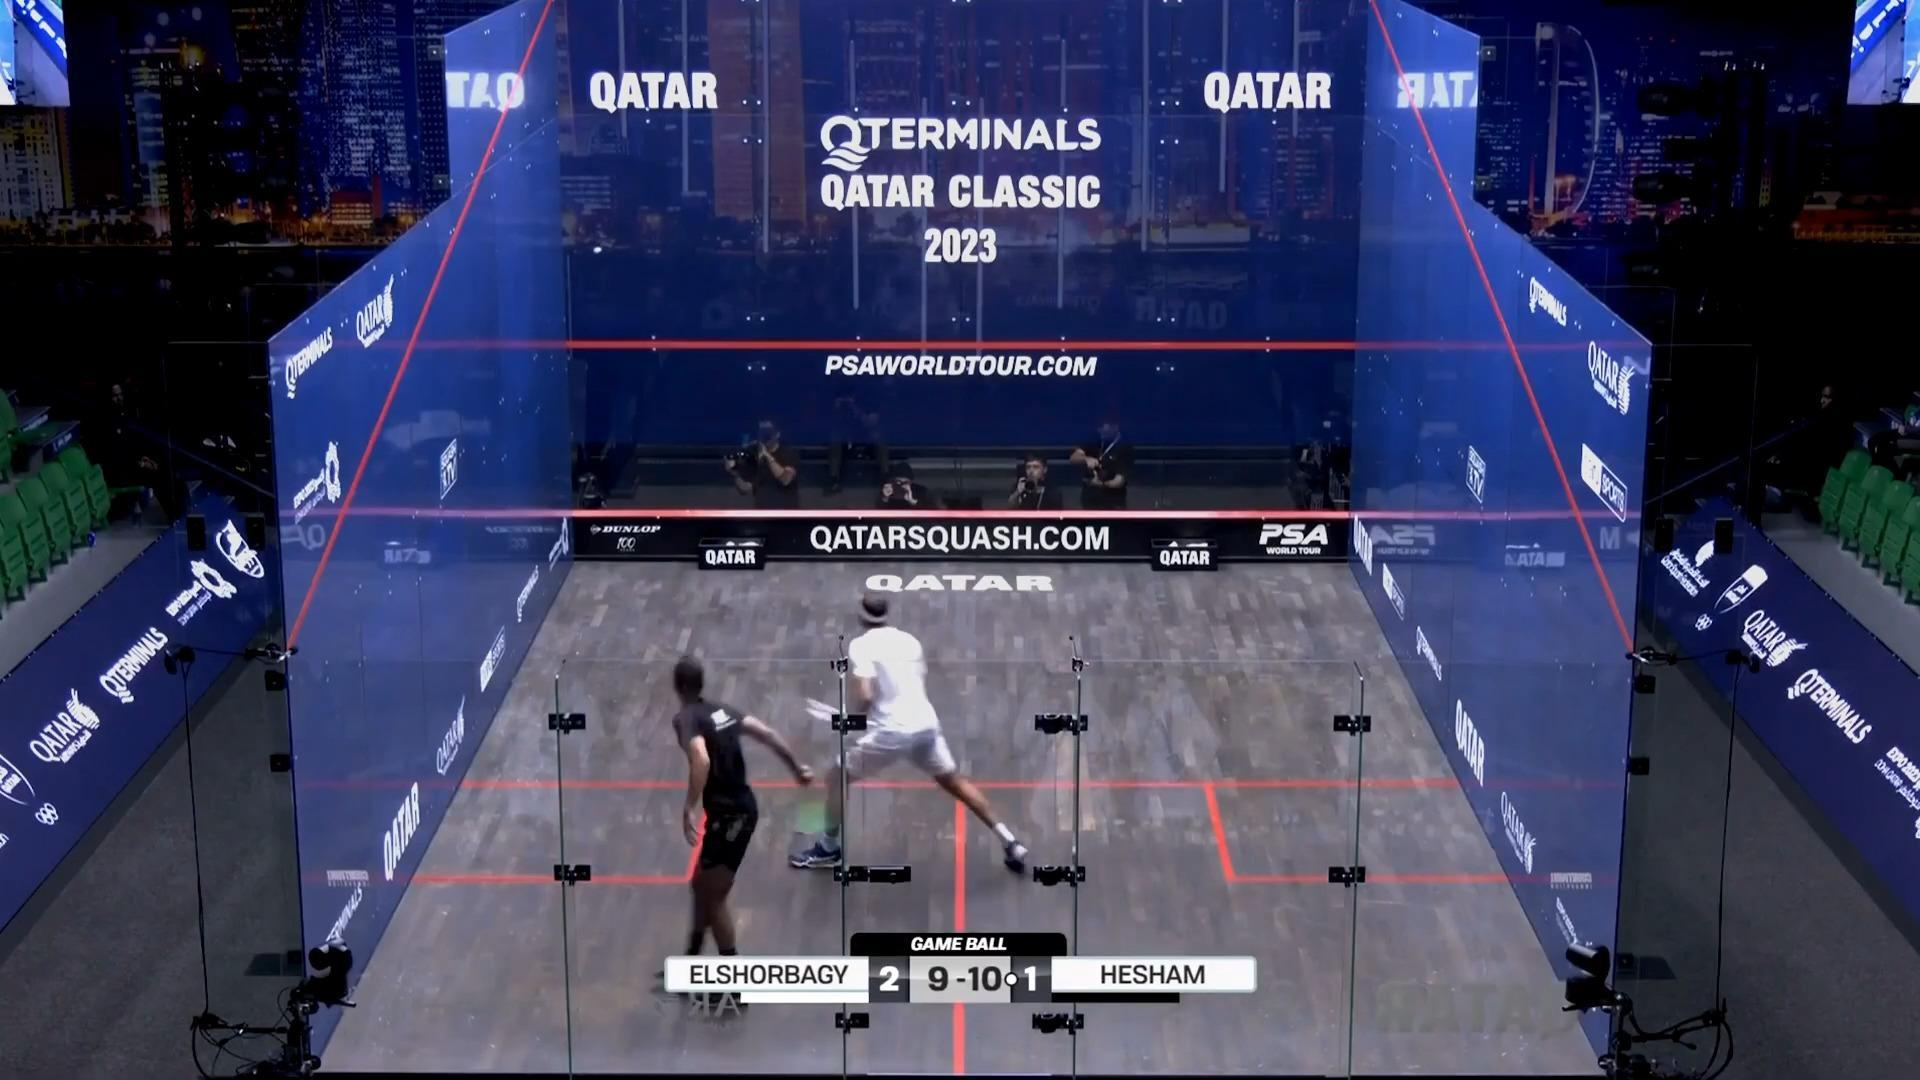Squash-Ball: (584, 235, 615, 265)
